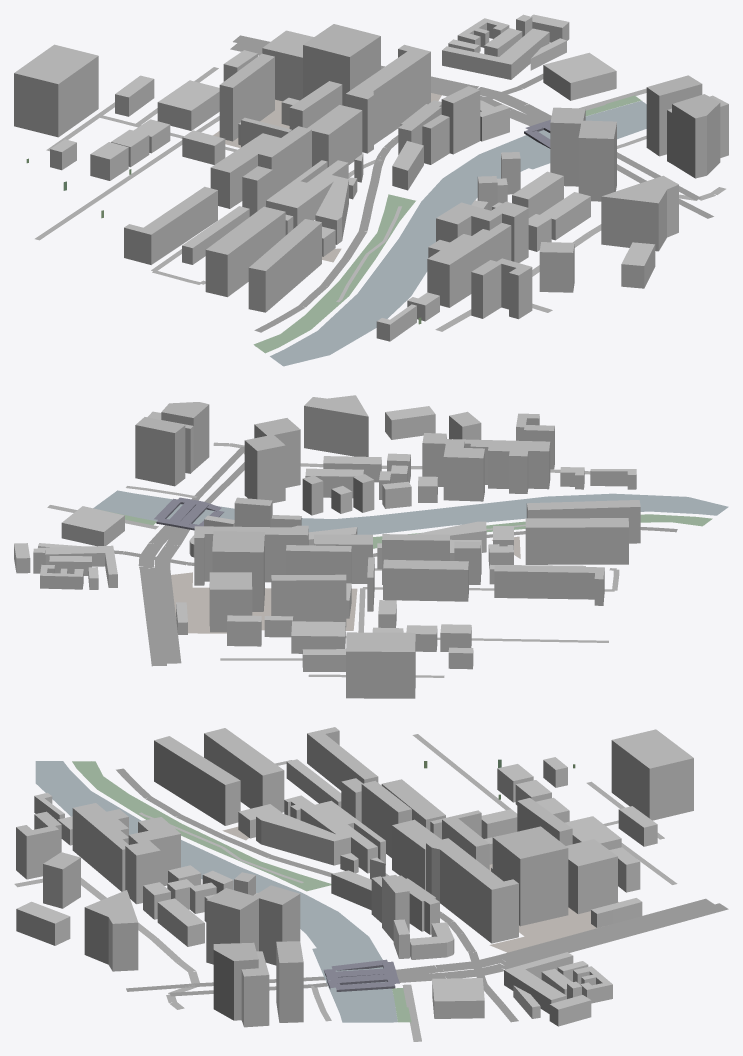
The picture shows the model from 3 angles, top to bottom: view 1: azimuth 30°, elevation 25°; view 2: azimuth 150°, elevation 25°; view 3: azimuth 270°, elevation 25°; orthographic projection. The views are drawn at different scales.
Bounding box in the file's own units: 589 × 62.07 × 578.
